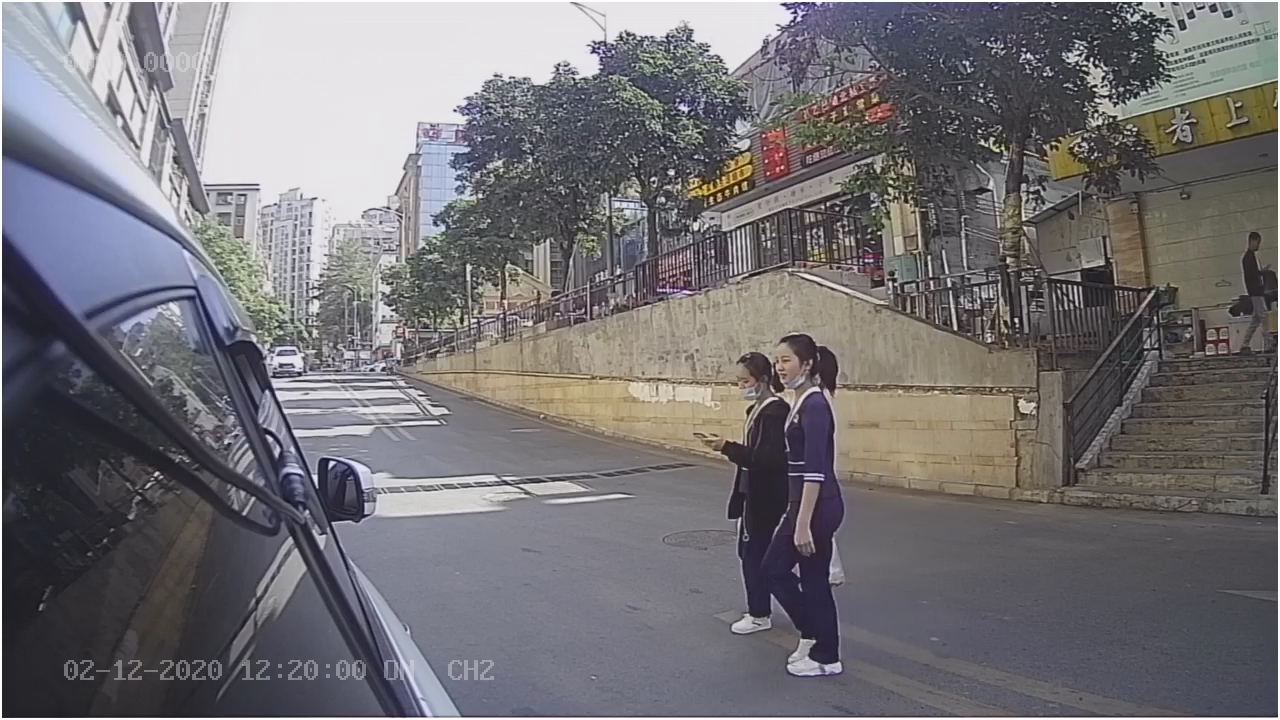person: (709, 329, 865, 682)
